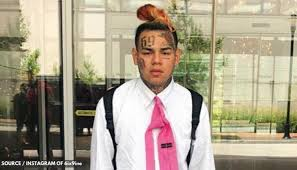no-mask: (131, 24, 183, 90)
